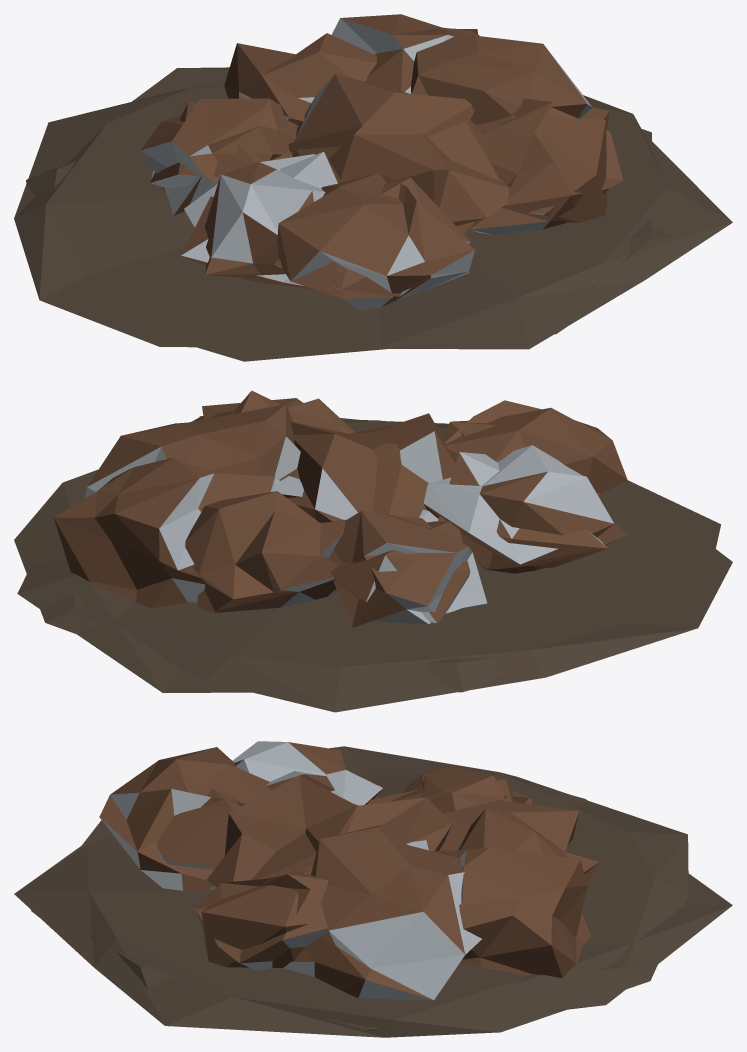
Rendered from neutral_ore_field_stage_03.glb.
The picture shows the model from 3 angles, top to bottom: view 1: azimuth 30°, elevation 25°; view 2: azimuth 150°, elevation 25°; view 3: azimuth 270°, elevation 25°; orthographic projection. The views are drawn at different scales.
Visible parts, largest first — view 1: ore (×2), soil (×2); view 2: ore (×2), soil (×2); view 3: ore (×2), soil (×2).
Part boxes in pixels (x1,y1,x2,y2): ore (×2): (140,14,622,310); soil (×2): (14,67,732,361); ore (×2): (54,390,628,627); soil (×2): (14,418,732,712); ore (×2): (99,741,598,1000); soil (×2): (14,746,732,1037).
Bounding box in the file's own units: 3.7 × 0.8284 × 3.86.
